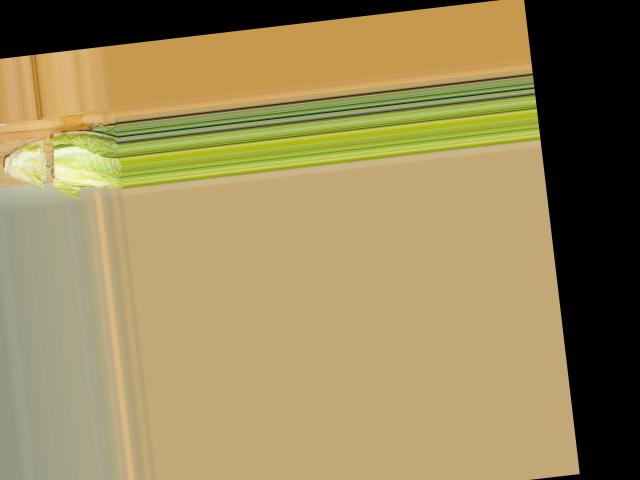lettuce: (0, 118, 122, 204)
